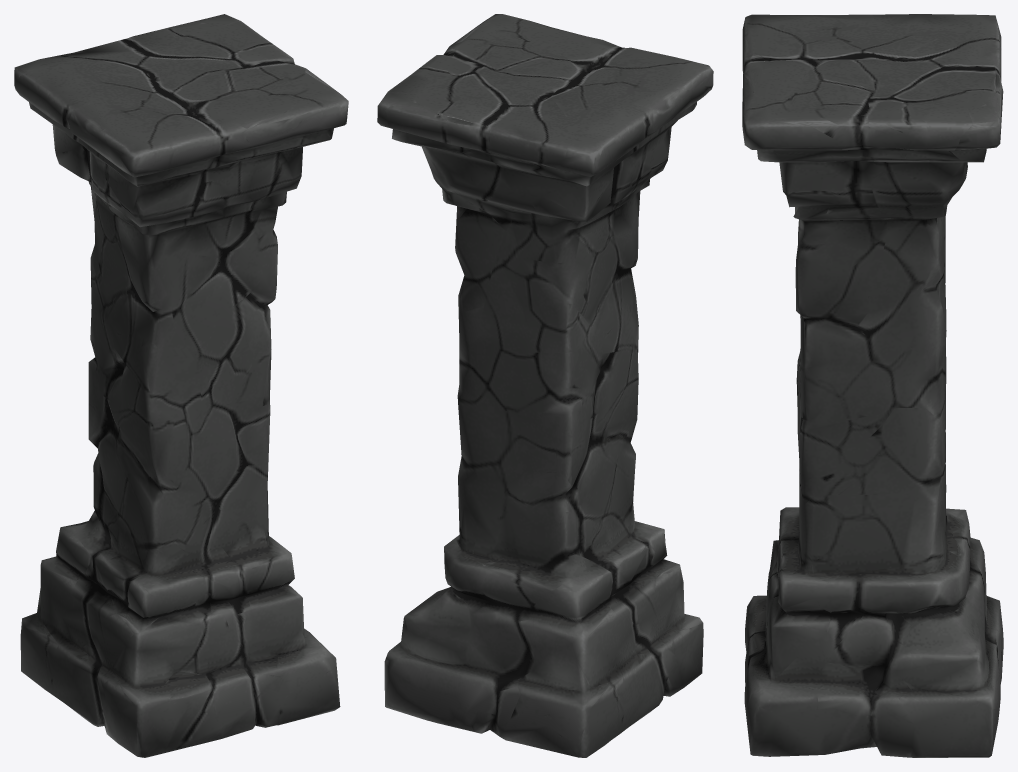
File: destructible_pillar.glb
The picture shows the model from 3 angles, left to right: view 1: azimuth 30°, elevation 25°; view 2: azimuth 150°, elevation 25°; view 3: azimuth 270°, elevation 25°; orthographic projection. The views are drawn at different scales.
Bounding box in the file's own units: 0.7603 × 2 × 0.7381.
Materials: 1 (1 with a texture image).
